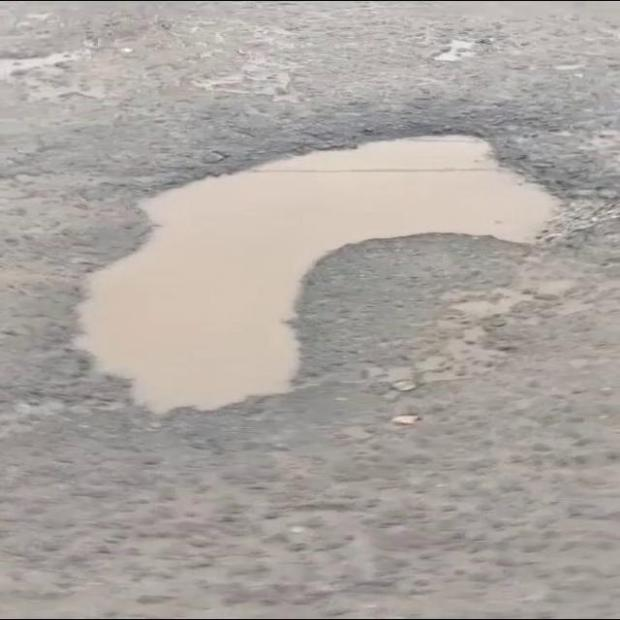lubang: (76, 137, 557, 413)
